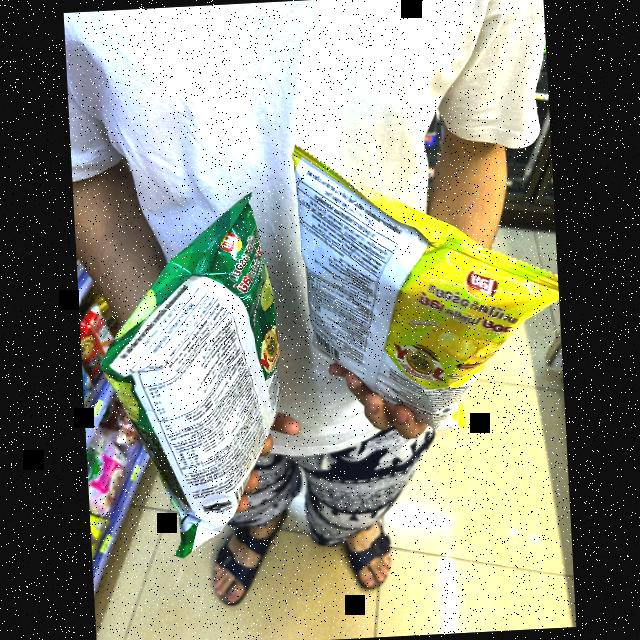snack_bag: (281, 133, 563, 460), (102, 196, 312, 558)
